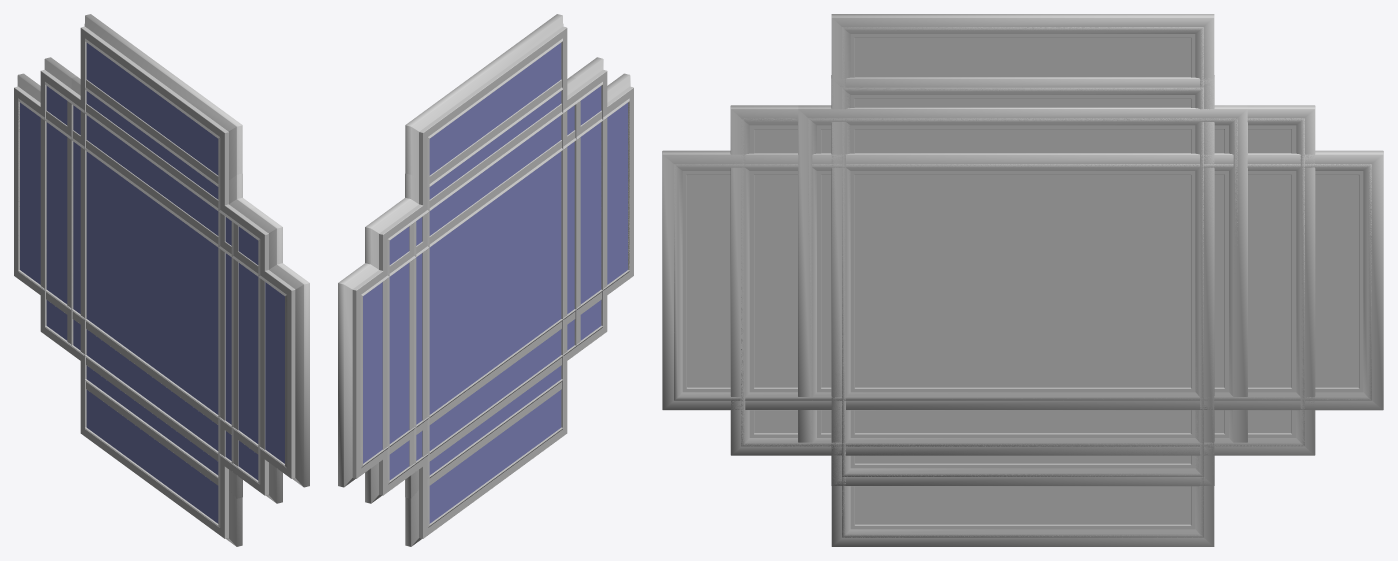
File: Art.fbx
The picture shows the model from 3 angles, left to right: view 1: azimuth 30°, elevation 25°; view 2: azimuth 150°, elevation 25°; view 3: azimuth 270°, elevation 25°; orthographic projection. The views are drawn at different scales.
Visible parts, largest first — view 1: art_6, art_2, art_5, art_4, art_3, Frame_A_6, Frame_B_6, Frame_A_5, Frame_B_5, Frame_A_4, art_1, Frame_A_3 (+10 smaller); view 2: art_6, art_5, art_4, art_1, Frame_A_6, Frame_B_6, Frame_A_5, Frame_B_5, Frame_A_4, art_3, Frame_A_3, Frame_A_1 (+11 smaller); view 3: art_1, art_6, art_5, art_2, Frame_B_6, Frame_B_4, Frame_B_1, Frame_B_5, Frame_B_2, art_4, Frame_C_1, Frame_C_6 (+11 smaller).
Boxes of the visible parts, <box> form: art_6: <box>20,102,284,463</box>; art_2: <box>73,105,231,405</box>; art_5: <box>86,43,218,523</box>; art_4: <box>46,86,258,480</box>; art_3: <box>88,116,218,406</box>; Frame_A_6: <box>14,86,295,478</box>; Frame_B_6: <box>17,73,309,487</box>; Frame_A_5: <box>80,26,228,538</box>; Frame_B_5: <box>84,14,242,546</box>; Frame_A_4: <box>40,69,268,495</box>; art_1: <box>87,92,218,468</box>; Frame_A_3: <box>80,100,225,458</box>; art_6: <box>363,102,627,463</box>; art_5: <box>429,43,561,523</box>; art_4: <box>389,86,601,480</box>; art_1: <box>429,92,561,461</box>; Frame_A_6: <box>352,86,633,478</box>; Frame_B_6: <box>338,73,630,487</box>; Frame_A_5: <box>419,26,567,538</box>; Frame_B_5: <box>405,14,563,546</box>; Frame_A_4: <box>379,69,607,495</box>; art_3: <box>430,116,560,419</box>; Frame_A_3: <box>422,103,565,461</box>; Frame_A_1: <box>419,76,567,490</box>; art_1: <box>855,99,1190,463</box>; art_6: <box>687,175,1358,387</box>; art_5: <box>855,38,1190,524</box>; art_2: <box>821,129,1224,433</box>; Frame_B_6: <box>662,150,1383,410</box>; Frame_B_4: <box>730,105,1315,455</box>; Frame_B_1: <box>831,75,1214,486</box>; Frame_B_5: <box>831,14,1214,546</box>; Frame_B_2: <box>798,105,1247,442</box>; art_4: <box>754,129,1291,433</box>; Frame_C_1: <box>842,87,1203,476</box>; Frame_C_6: <box>674,164,1371,400</box>.
Size of the model in its own units: 6.67 by 174 by 215.
